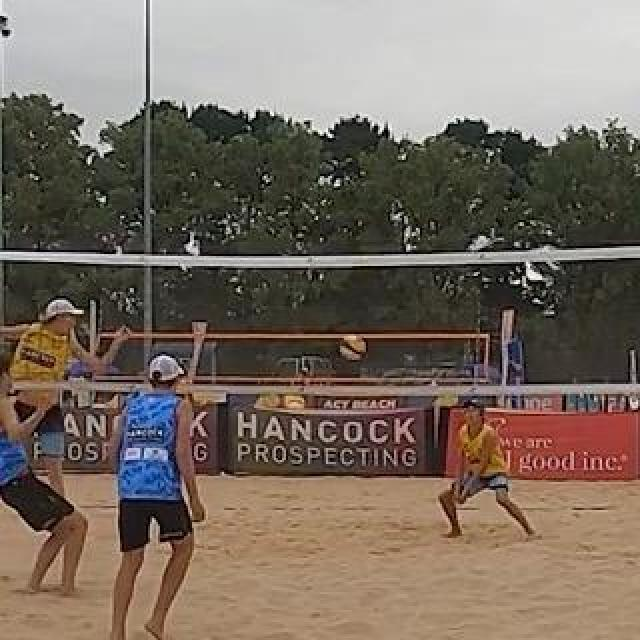volleyball: (340, 336, 366, 362)
